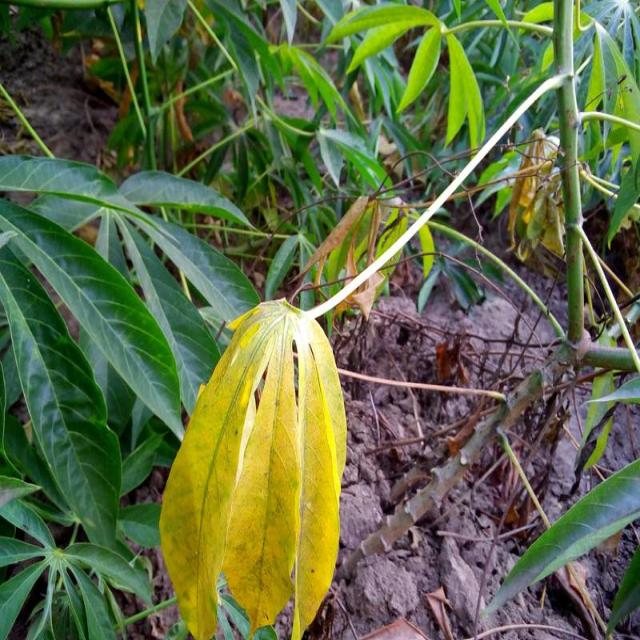cassava leaf: (158, 295, 348, 638)
